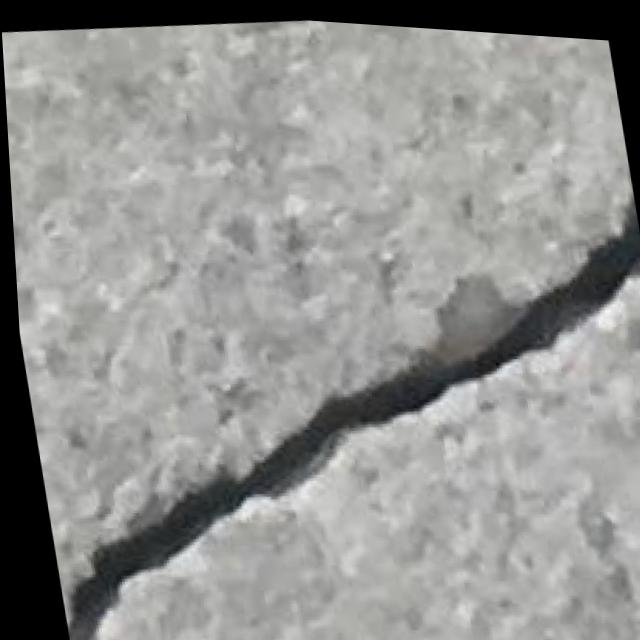Crack: (7, 150, 640, 640)
